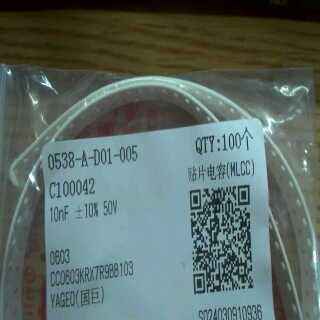10nF: (46, 202, 72, 225)
